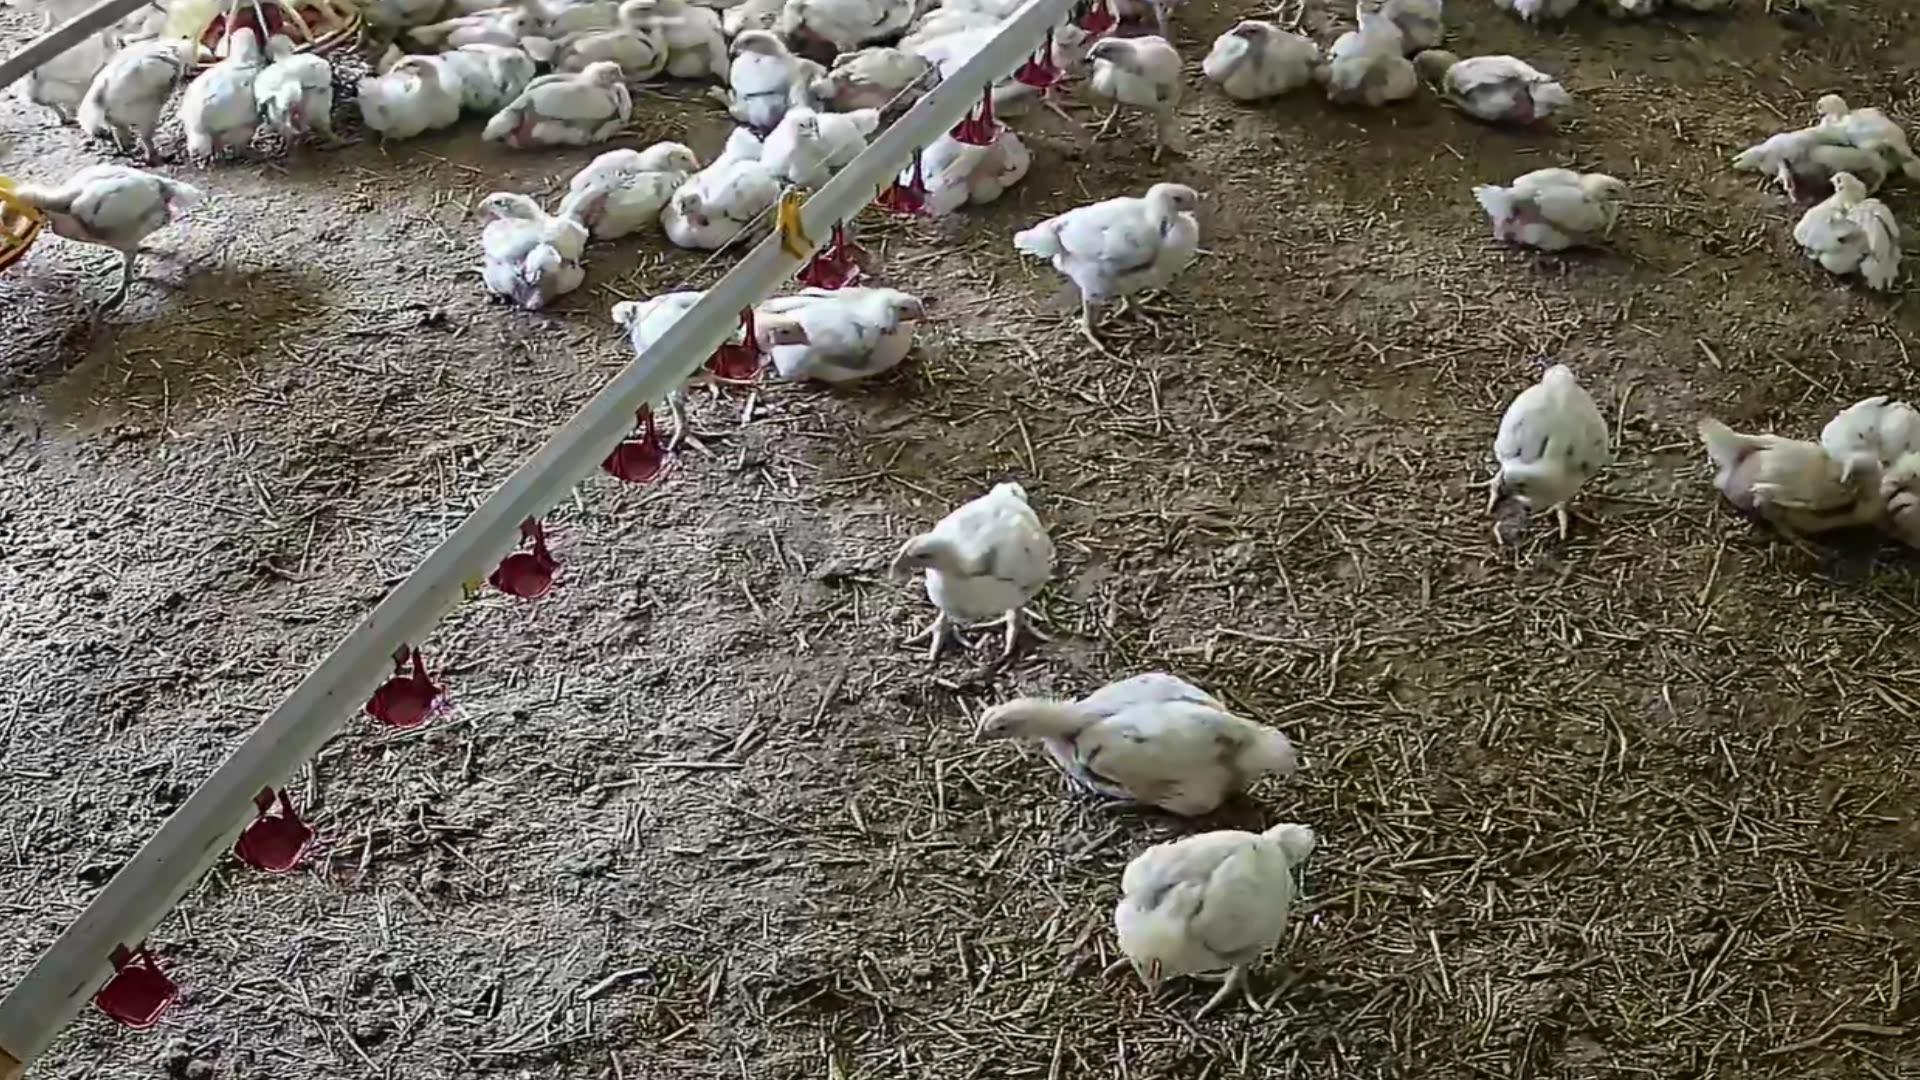poussin: (1079, 812, 1349, 1025), (831, 472, 1092, 669), (975, 663, 1324, 810), (1002, 171, 1263, 359), (1437, 342, 1642, 551), (11, 152, 198, 330), (1696, 413, 1869, 570), (1455, 150, 1662, 278), (622, 282, 820, 393), (766, 276, 952, 386), (1795, 167, 1920, 318), (462, 193, 607, 319), (1083, 32, 1217, 162), (1422, 50, 1601, 144), (79, 38, 215, 153), (177, 20, 278, 173), (902, 100, 1030, 222), (497, 61, 649, 157), (705, 26, 849, 124), (674, 129, 791, 245), (576, 136, 700, 235), (1743, 124, 1898, 203), (1203, 17, 1324, 111), (255, 26, 343, 148), (1324, 0, 1416, 105), (819, 38, 949, 111), (357, 51, 455, 148), (771, 100, 874, 190), (903, 0, 1009, 86), (24, 28, 99, 133), (430, 29, 537, 103), (1820, 386, 1920, 463), (1817, 96, 1920, 169), (575, 5, 673, 76), (783, 0, 913, 45), (418, 8, 533, 57), (1040, 20, 1095, 115), (1495, 0, 1597, 42), (1389, 0, 1460, 50), (719, 0, 800, 36), (1609, 0, 1660, 26)
